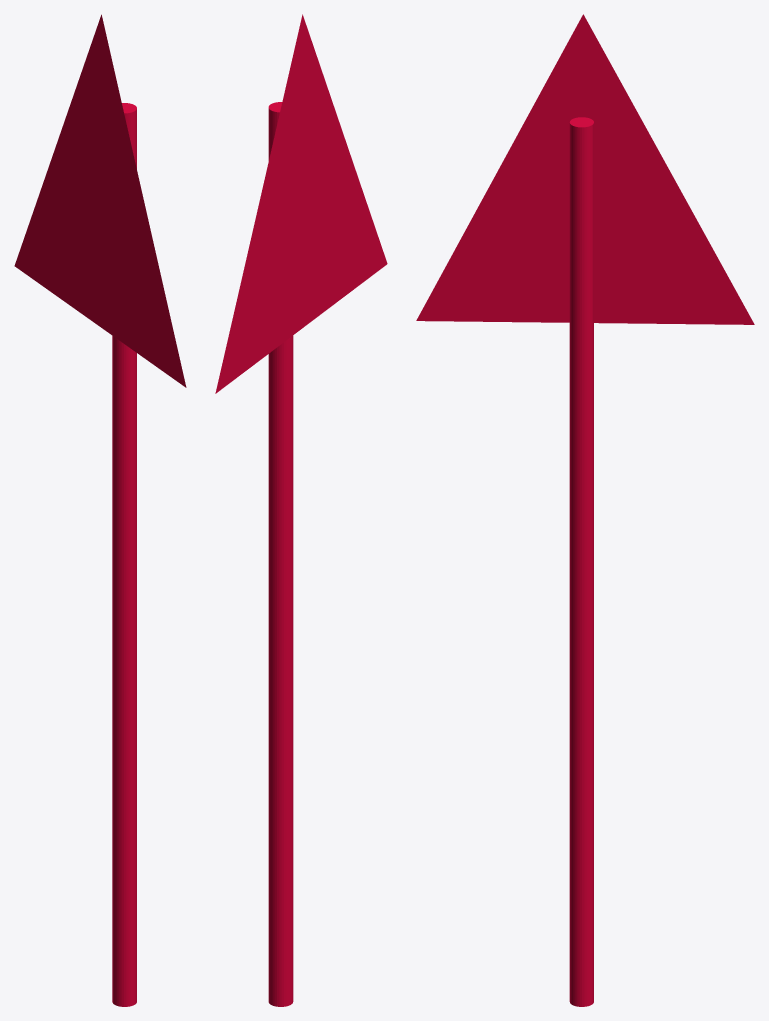
File: table_2.fbx
The picture shows the model from 3 angles, left to right: view 1: azimuth 30°, elevation 25°; view 2: azimuth 150°, elevation 25°; view 3: azimuth 270°, elevation 25°; orthographic projection.
Visible parts, largest first — view 1: Cylinder; view 2: Cylinder; view 3: Cylinder.
Boxes of the visible parts, x1,y1,x2,y2 form: Cylinder: (14, 14, 186, 1006); Cylinder: (215, 14, 387, 1006); Cylinder: (416, 14, 754, 1006).
Size of the model in its own units: 31 by 889 by 279.
